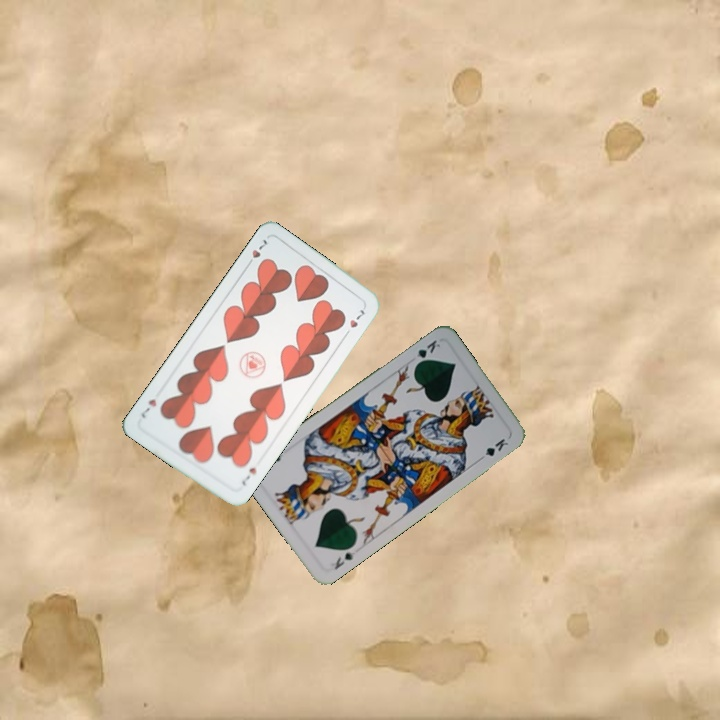GK: (411, 336, 444, 368), (330, 546, 358, 573)
H7: (243, 235, 270, 270), (237, 463, 259, 488)
